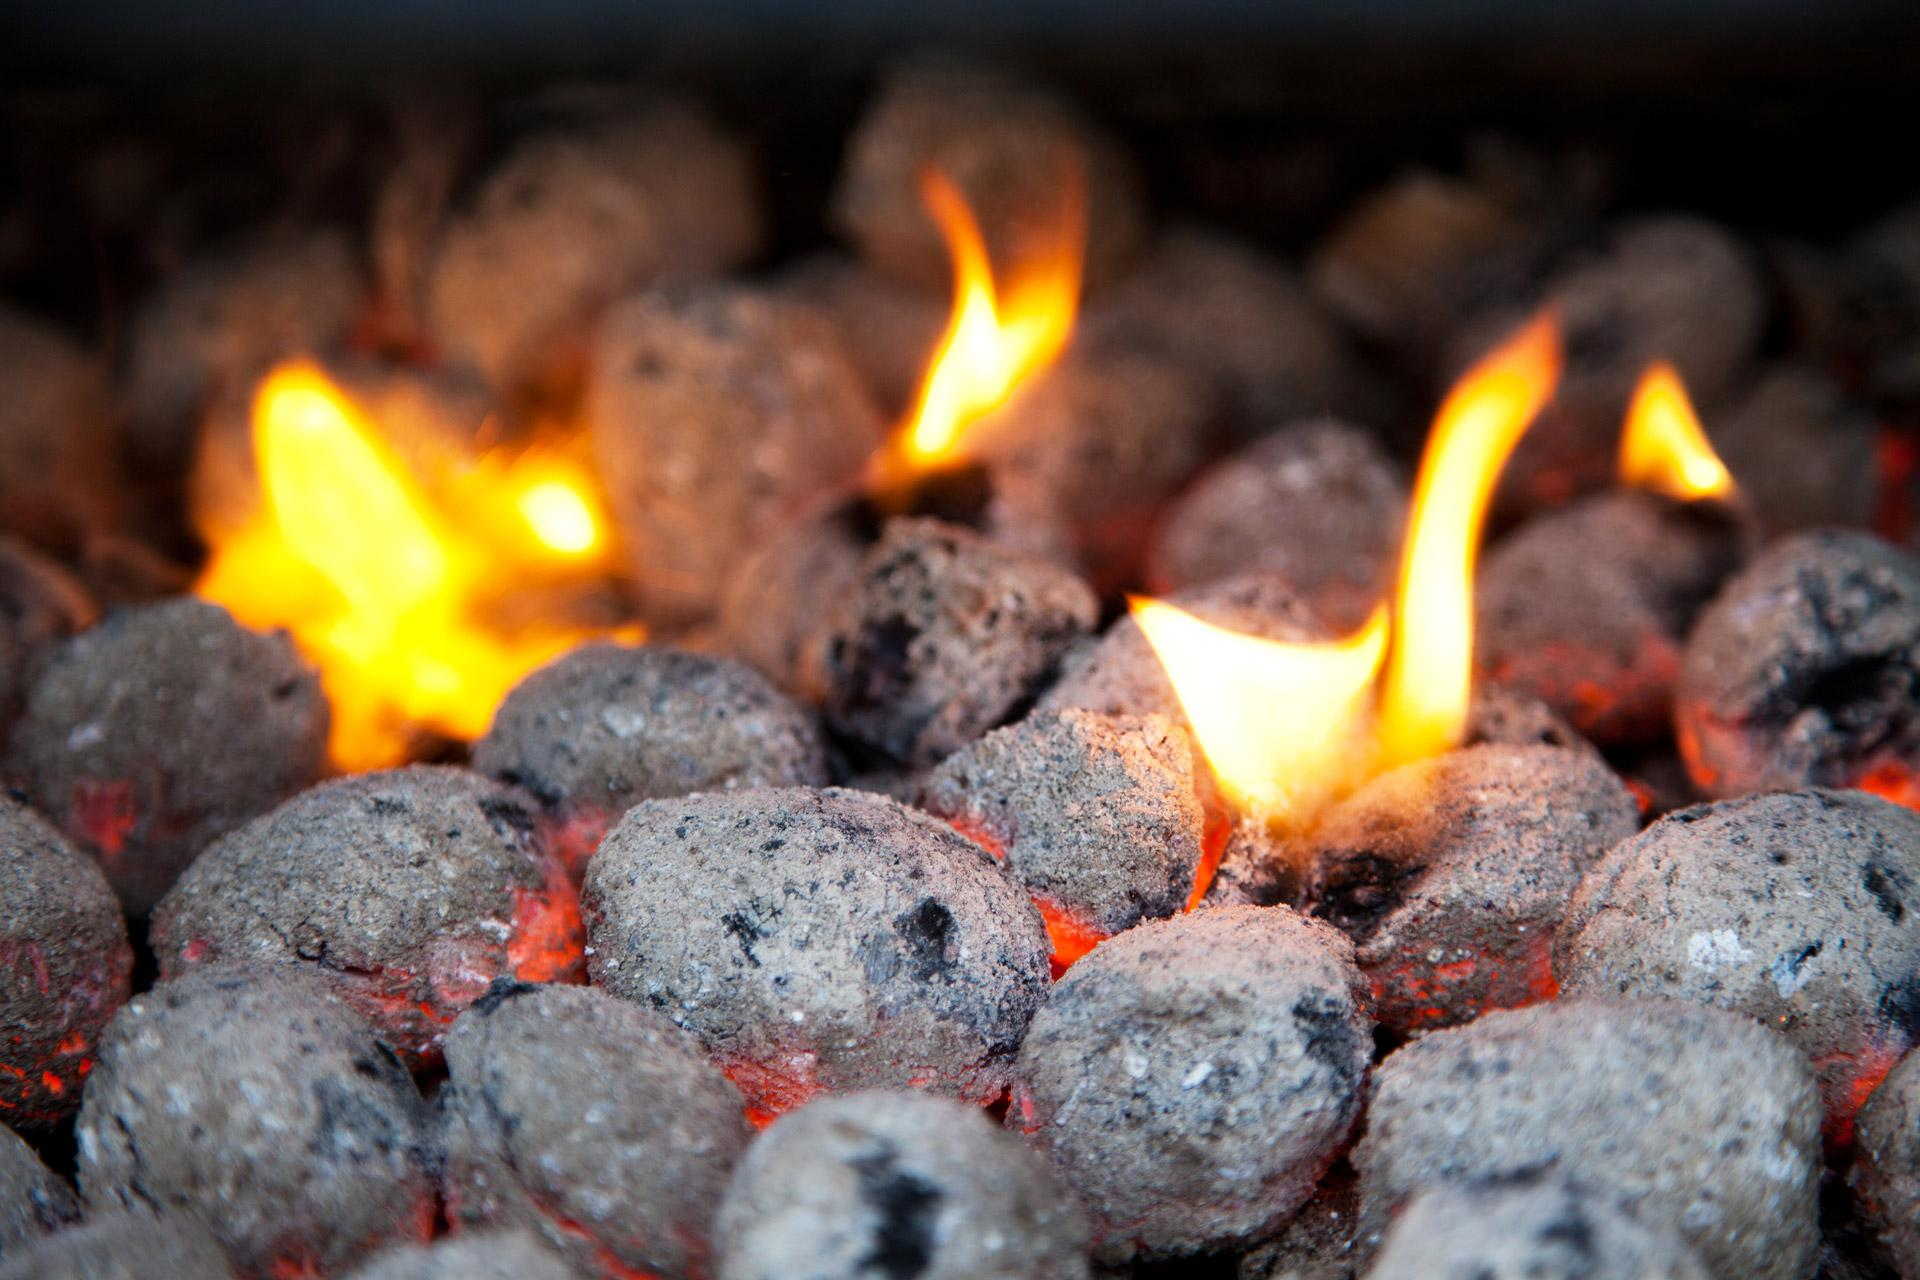fire: (1141, 299, 1561, 844), (173, 324, 633, 774), (873, 179, 1127, 537), (1613, 356, 1751, 551)
